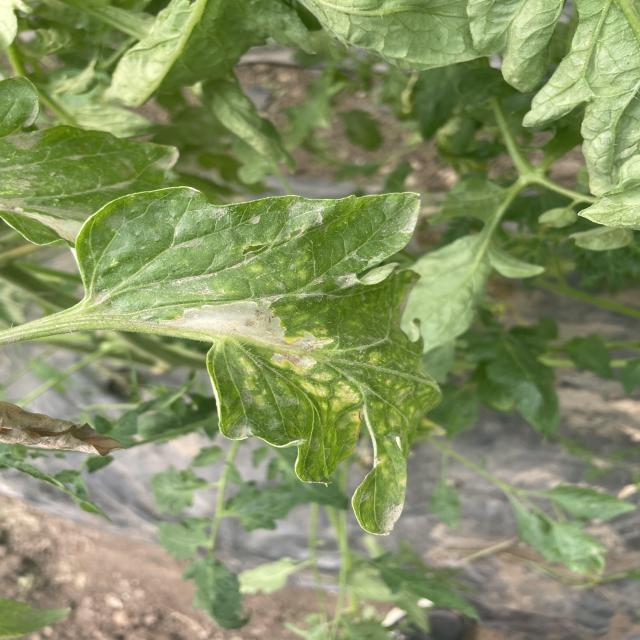Tuta absoluta: (158, 288, 292, 347)
